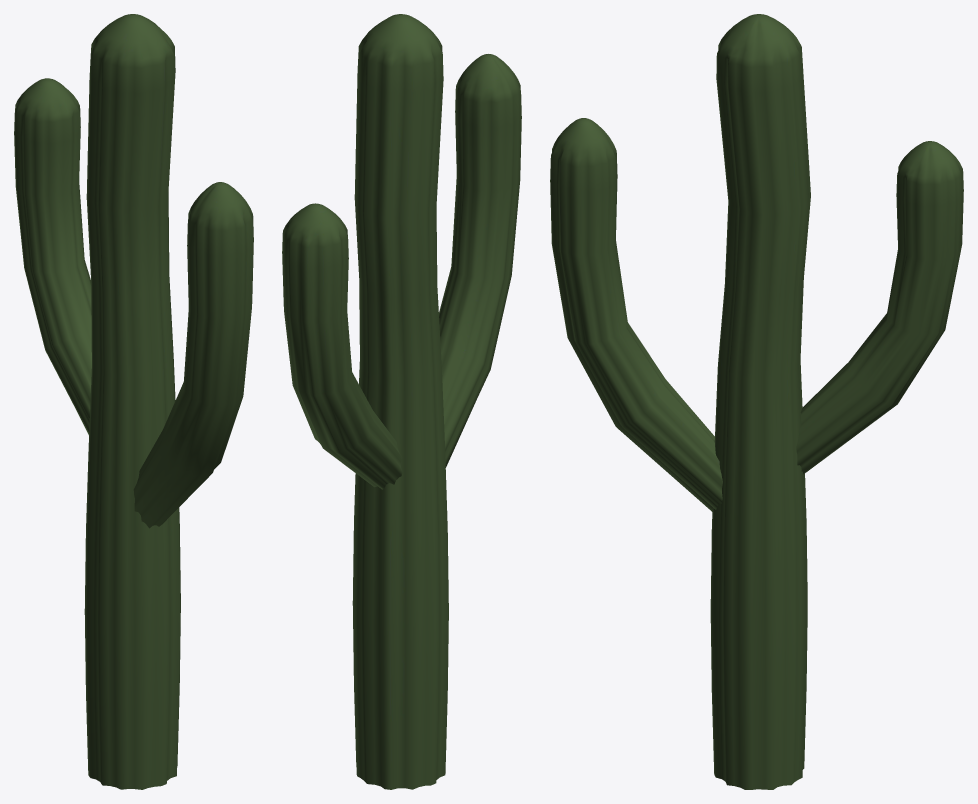
File: Cactus_1.fbx
3 views of the same model, side by side, from view 1: azimuth 30°, elevation 25°; view 2: azimuth 150°, elevation 25°; view 3: azimuth 270°, elevation 25° (orthographic).
Parts seen in each view (by area): view 1: pCylinder5; view 2: pCylinder5; view 3: pCylinder5.
Boxes of the visible parts, x1,y1,x2,y2 form: pCylinder5: [14, 14, 253, 789]; pCylinder5: [282, 14, 521, 789]; pCylinder5: [550, 14, 963, 789].
Size of the model in its own units: 0.4991 by 4.36 by 2.16.
